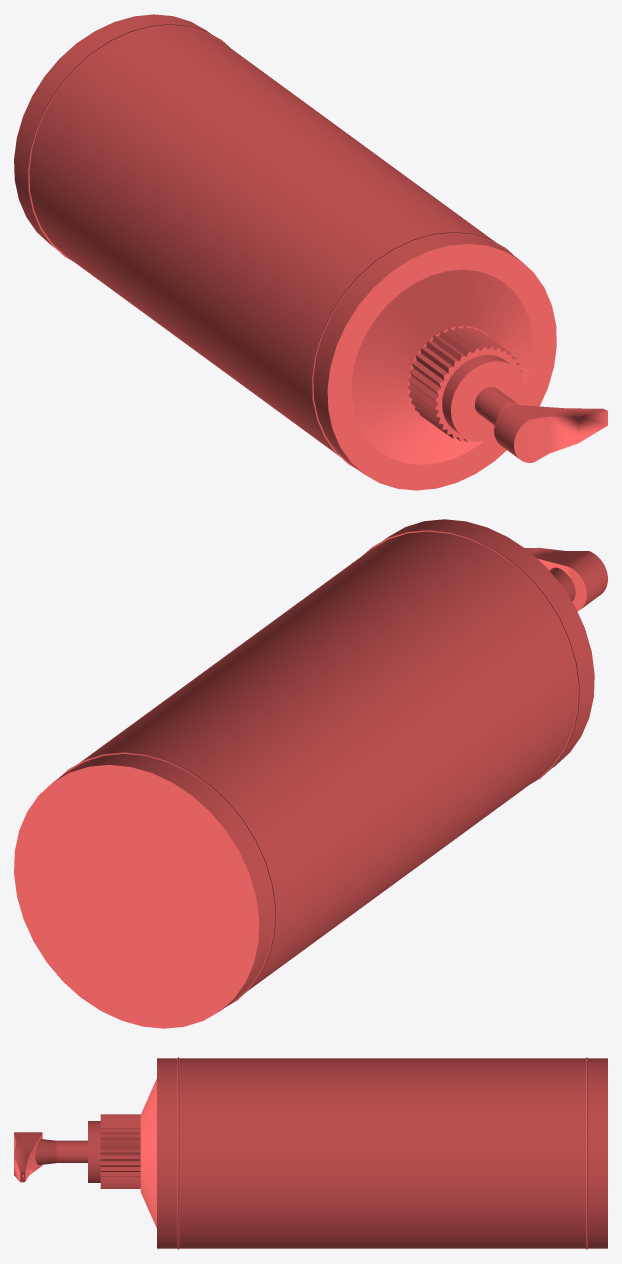
Rendered from model_align.obj.
3 views of the same model, one above another, from view 1: azimuth 30°, elevation 25°; view 2: azimuth 150°, elevation 25°; view 3: azimuth 270°, elevation 25° (orthographic). The views are drawn at different scales.
Visible parts, largest first — view 1: mesh12_mesh12-geometry, mesh1_mesh1-geometry, mesh8_mesh8-geometry; view 2: mesh12_mesh12-geometry, mesh8_mesh8-geometry; view 3: mesh12_mesh12-geometry, mesh1_mesh1-geometry, mesh8_mesh8-geometry.
Part boxes in pixels (x1,y1,x2,y2): mesh12_mesh12-geometry: (14, 14, 556, 490); mesh1_mesh1-geometry: (407, 326, 525, 442); mesh8_mesh8-geometry: (494, 404, 607, 462); mesh12_mesh12-geometry: (14, 519, 594, 1028); mesh8_mesh8-geometry: (525, 547, 607, 611); mesh12_mesh12-geometry: (140, 1057, 607, 1249); mesh1_mesh1-geometry: (35, 1114, 140, 1188); mesh8_mesh8-geometry: (14, 1132, 42, 1182).
Bounding box in the file's own units: 0.0494 × 0.0494 × 0.1527.
